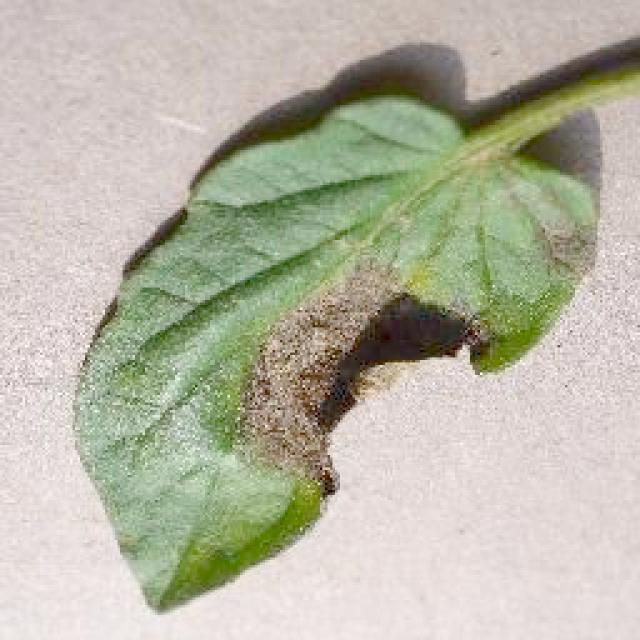Tomato late blight leaf: (68, 94, 594, 618)
